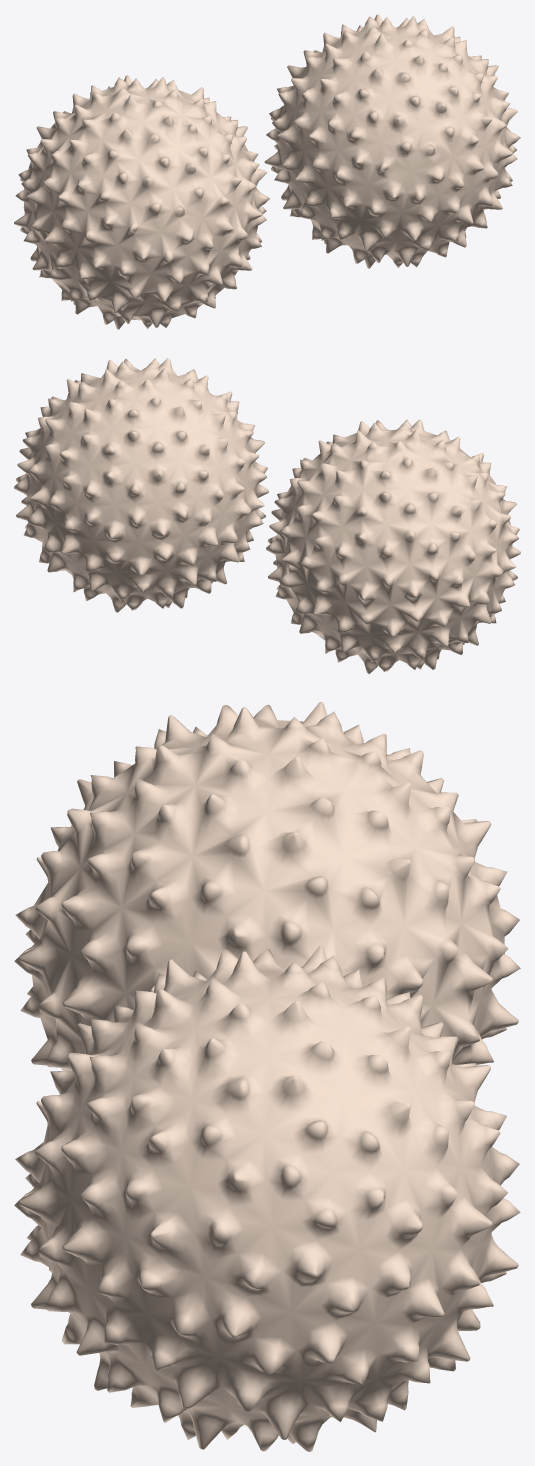
Rendered from lymphocytes.fbx.
3 views of the same model, one above another, from view 1: azimuth 30°, elevation 25°; view 2: azimuth 150°, elevation 25°; view 3: azimuth 270°, elevation 25° (orthographic). The views are drawn at different scales.
Parts seen in each view (by area): view 1: low_spike, medium_spike; view 2: low_spike, medium_spike; view 3: medium_spike, low_spike.
Part boxes in pixels (bbox=[...]): low_spike: bbox=[14, 75, 269, 329]; medium_spike: bbox=[264, 14, 520, 268]; low_spike: bbox=[266, 419, 520, 673]; medium_spike: bbox=[14, 358, 268, 612]; medium_spike: bbox=[14, 946, 520, 1451]; low_spike: bbox=[14, 702, 520, 1071].
Bounding box in the file's own units: 902 × 422 × 421.
